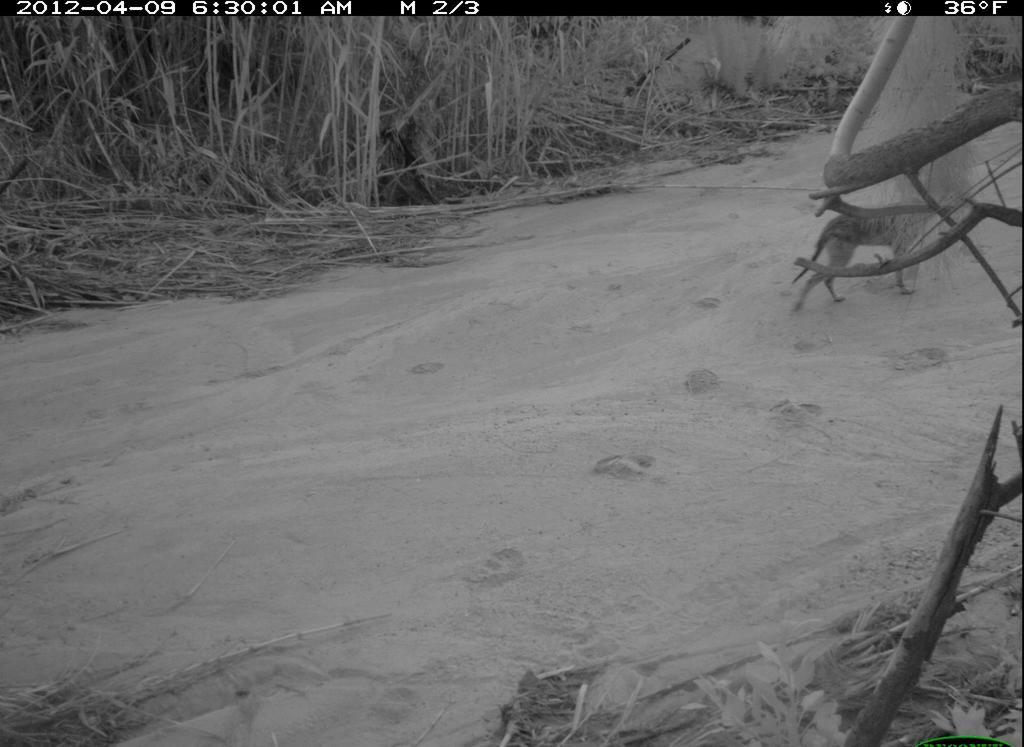coyote: (787, 194, 933, 319)
